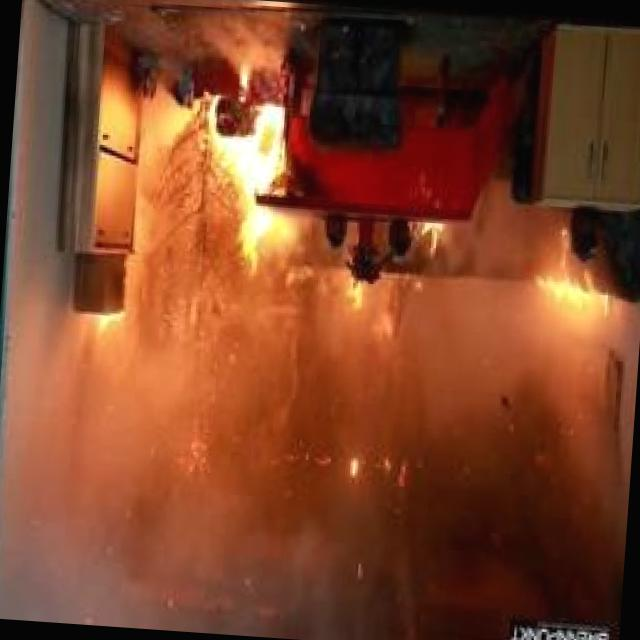fire: (141, 76, 640, 379)
